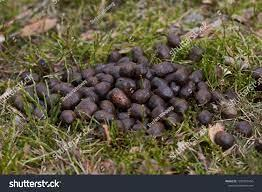Elk: (31, 61, 195, 122)
